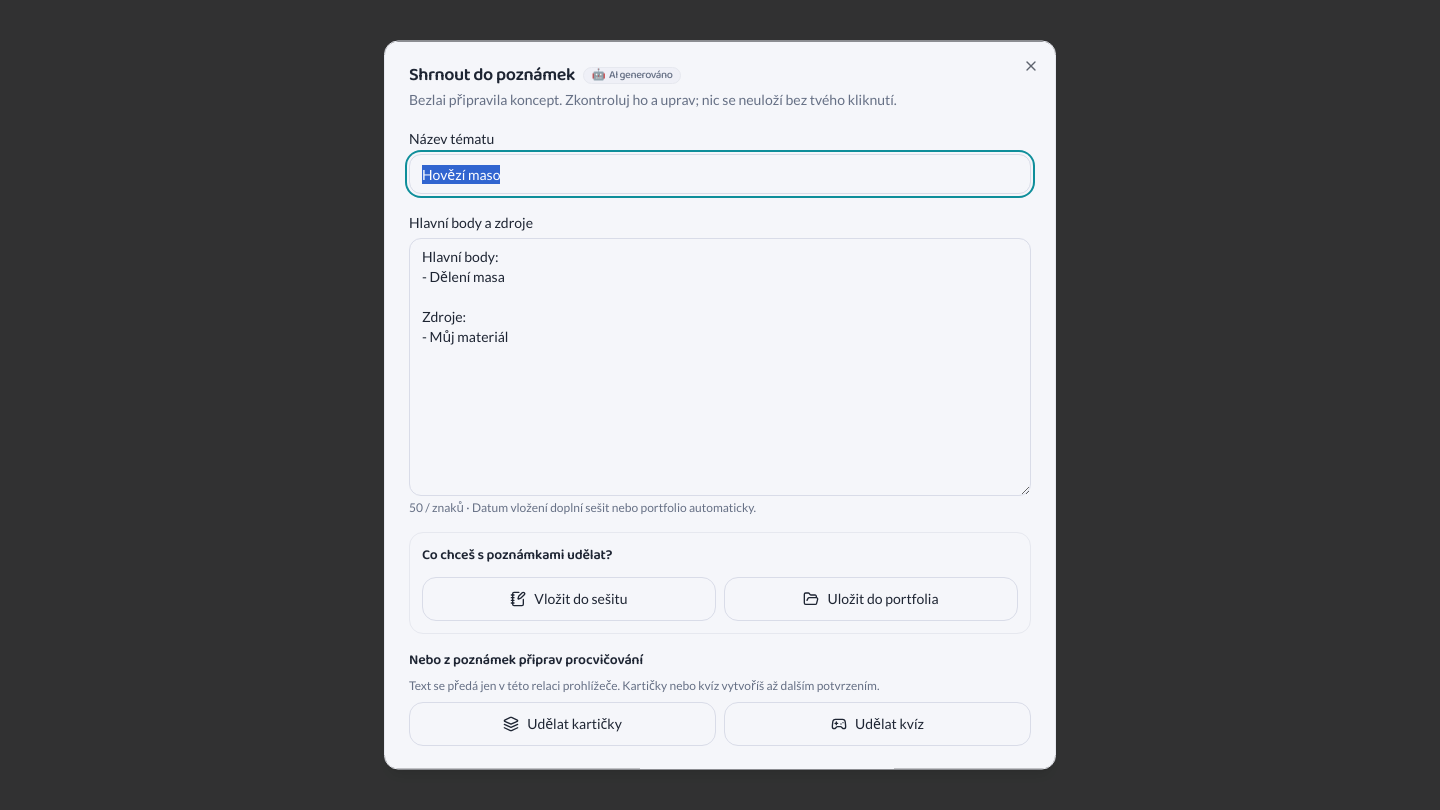
Bezlai – ručně potvrzené uložení poznámek › při selhání vložení zachová text a retry nezaloží druhý sešit
This screenshot has width=1440, height=810.
Later steps or results of the test are not shown.
What coordinates should you click on to do the following:
click the button "Vložit do sešitu"
I would click on:
 (569, 598)
Its box is [422,576,716,620].
(page scrolled)
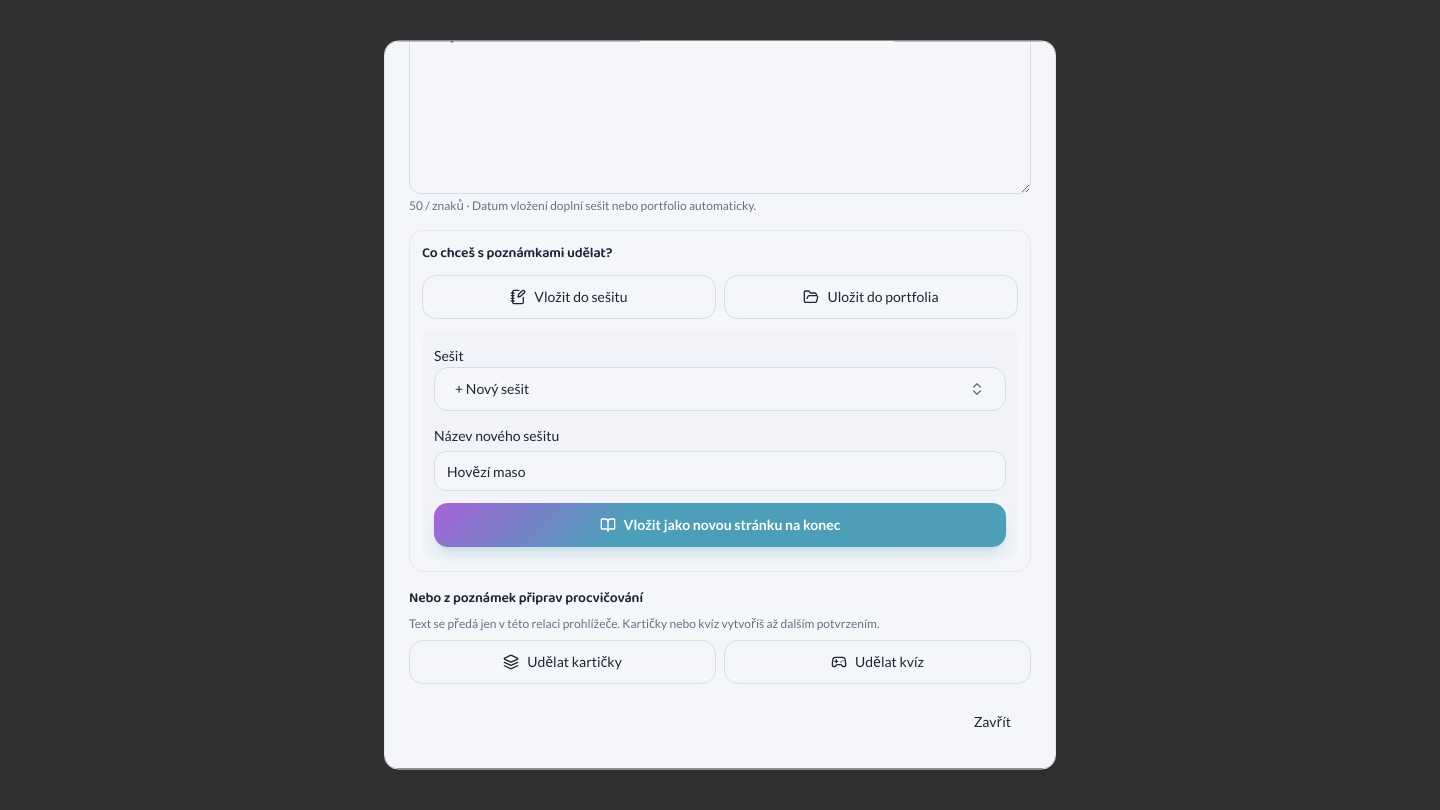
What coordinates should you click on to do the following:
click the button "Vložit jako novou stránku na konec"
I would click on:
 (720, 526)
Its box is [434,504,1006,548].
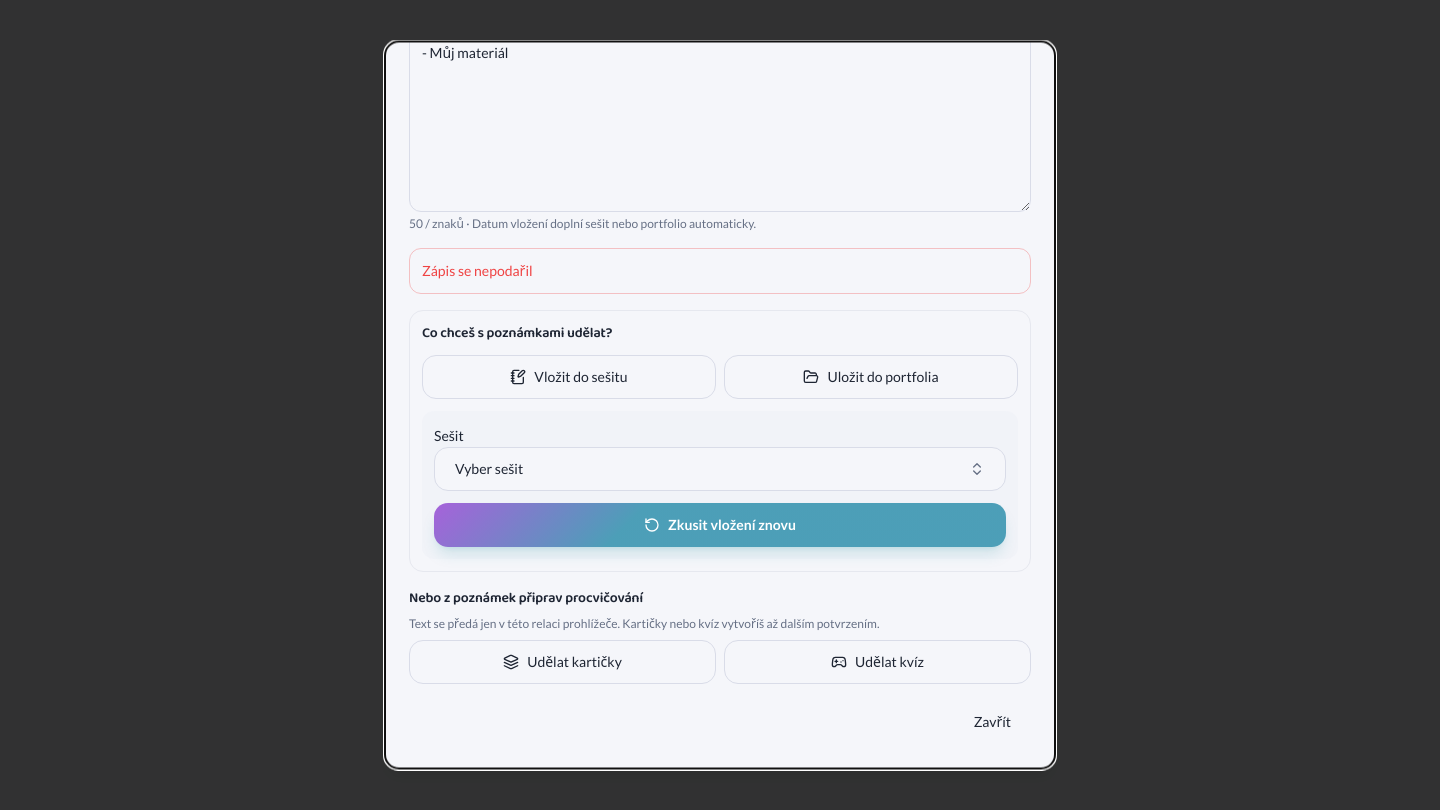
Result: the message reads "Zápis se nepodařil" at [422,262,532,280]
